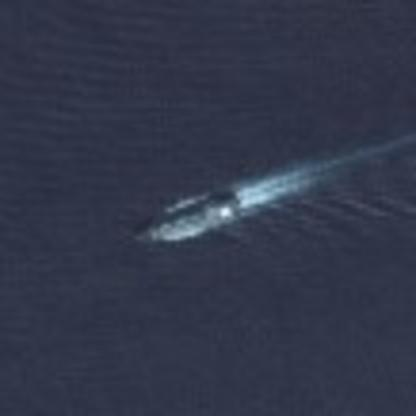ship: (123, 181, 247, 263)
